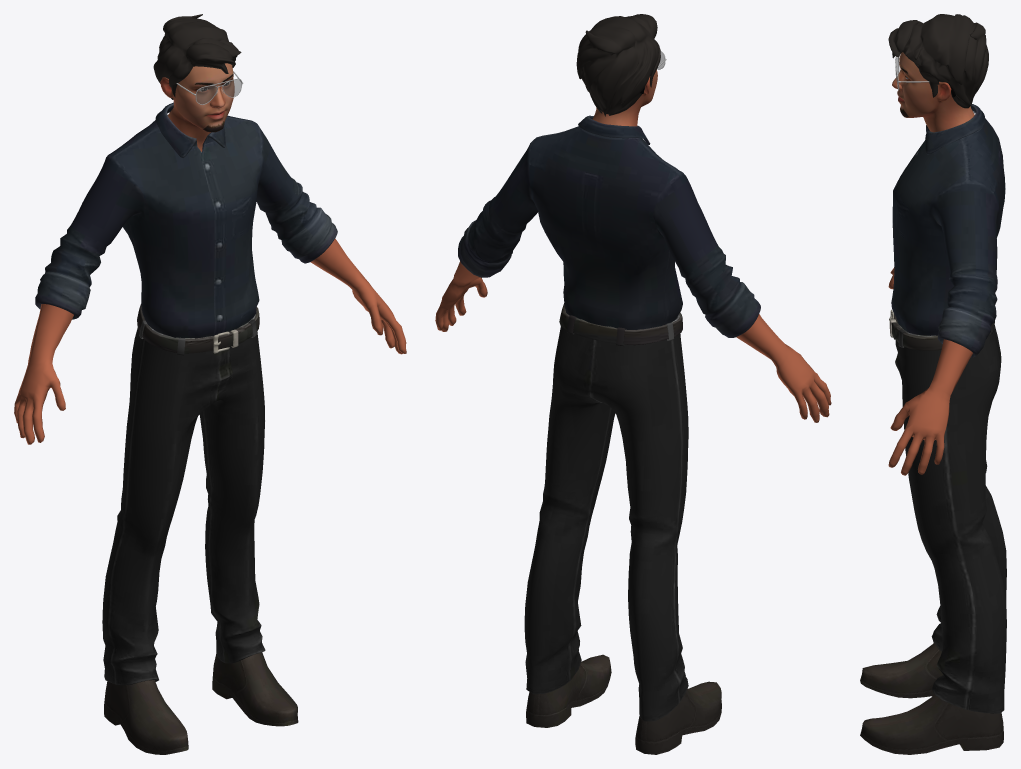
The model's file is luisplana3d.glb.
3 views of the same model, side by side, from view 1: azimuth 30°, elevation 25°; view 2: azimuth 150°, elevation 25°; view 3: azimuth 270°, elevation 25° (orthographic).
Visible parts, largest first — view 1: Wolf3D_Head; view 2: Wolf3D_Head; view 3: Wolf3D_Head.
Boxes of the visible parts, left/top/right/bottom form: Wolf3D_Head: left=14, top=14, right=406, bottom=754; Wolf3D_Head: left=435, top=14, right=831, bottom=754; Wolf3D_Head: left=860, top=14, right=1006, bottom=754.
Size of the model in its own units: 1.06 by 1.86 by 0.355.
Materials: 9 (9 with a texture image).
